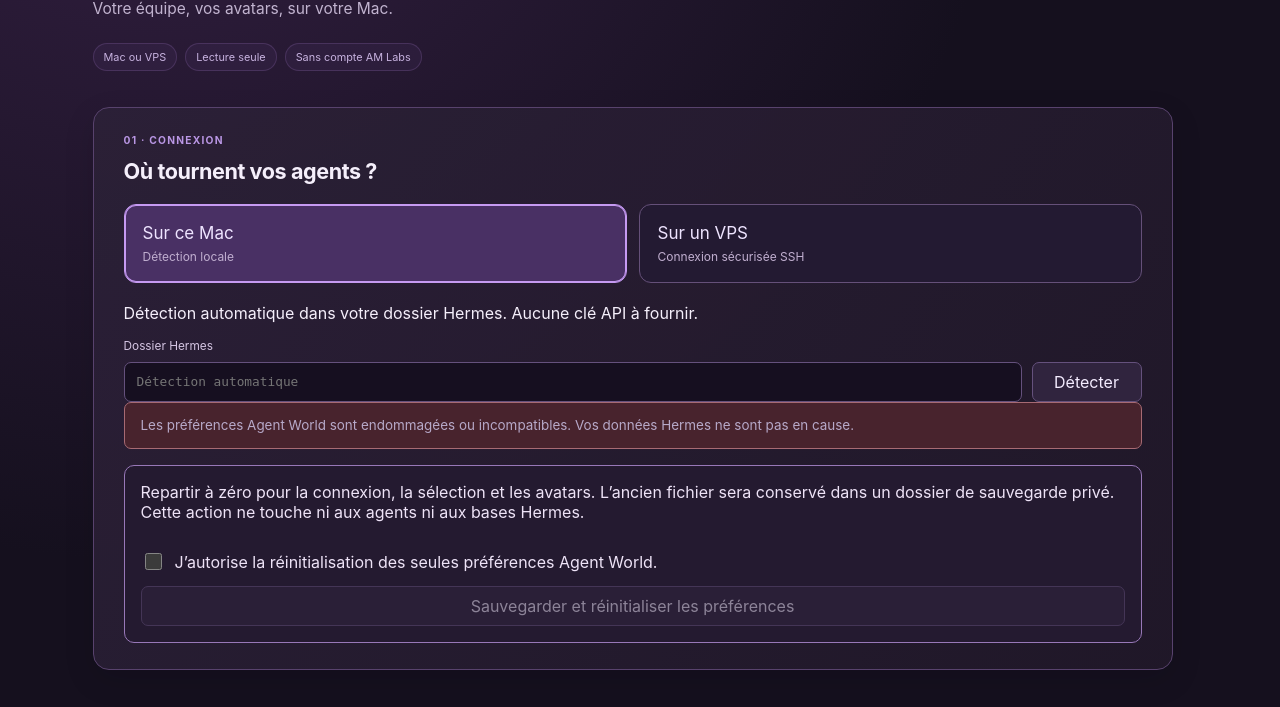
Test case: visual Hermes onboarding › requires explicit consent to recover preferences, then returns to unconfigured discovery
(page scrolled)
Expected: the button "Sauvegarder et réinitialiser les préférences" is disabled, [140,586,1124,626]
Expected: the message shows "Vos données Hermes ne sont pas en cause", [140,417,854,433]
Click the checkbox labelled "J’autorise la réinitialisation": [153, 562] box [144,553,162,570]
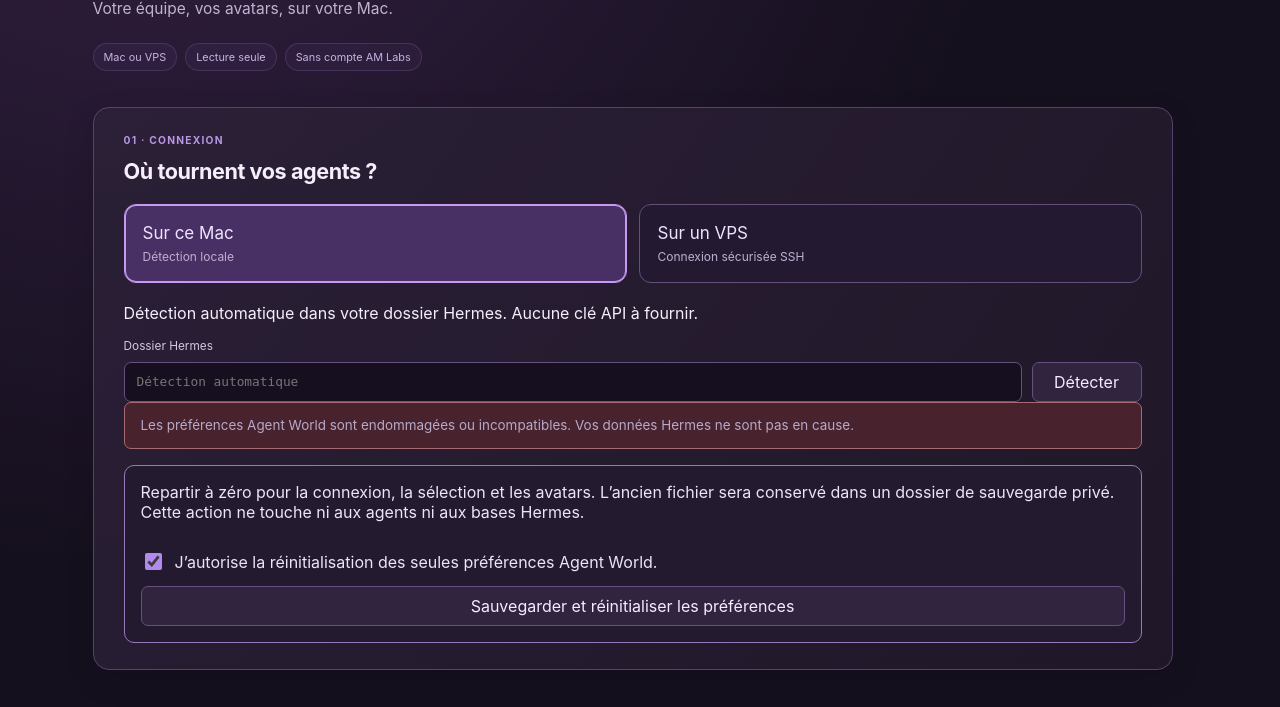
Click the button "Sauvegarder et réinitialiser les préférences": [632, 606] box [140,586,1124,626]
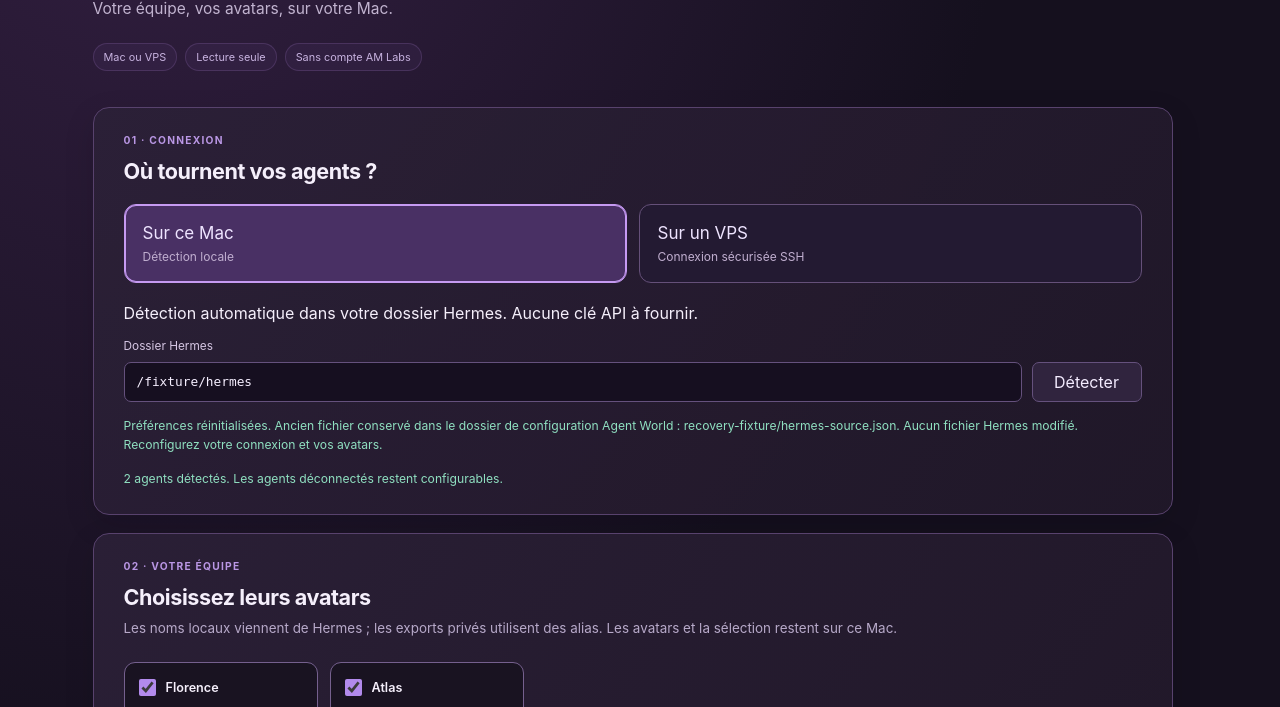
Expected: the checkbox labelled "Florence" is shown, [138,679,156,696]
Expected: the text "Ancien fichier conservé" is shown, [124,418,1078,452]
Expected: the button "Sauvegarder et réinitialiser les préférences" is gone
